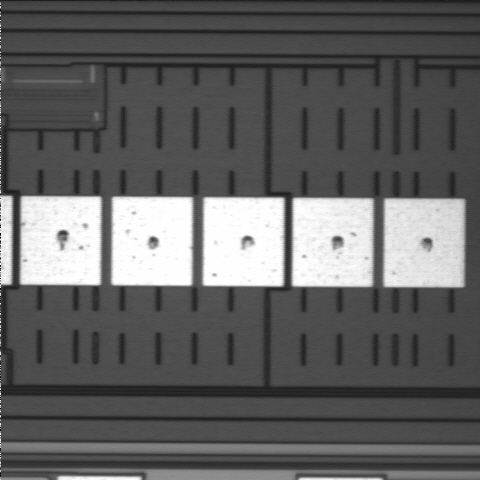pad: (111, 197, 193, 286), (20, 196, 101, 285), (203, 197, 284, 286), (292, 198, 373, 287), (384, 199, 464, 287)
